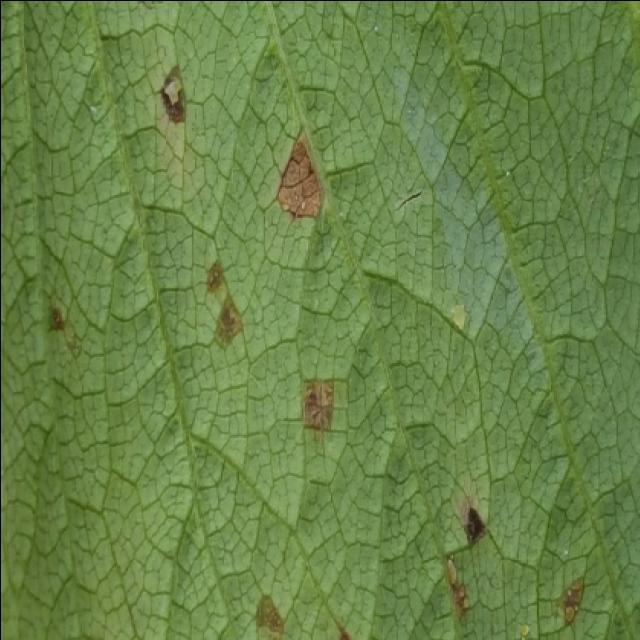Angular Leafspot: (33, 65, 602, 640)
